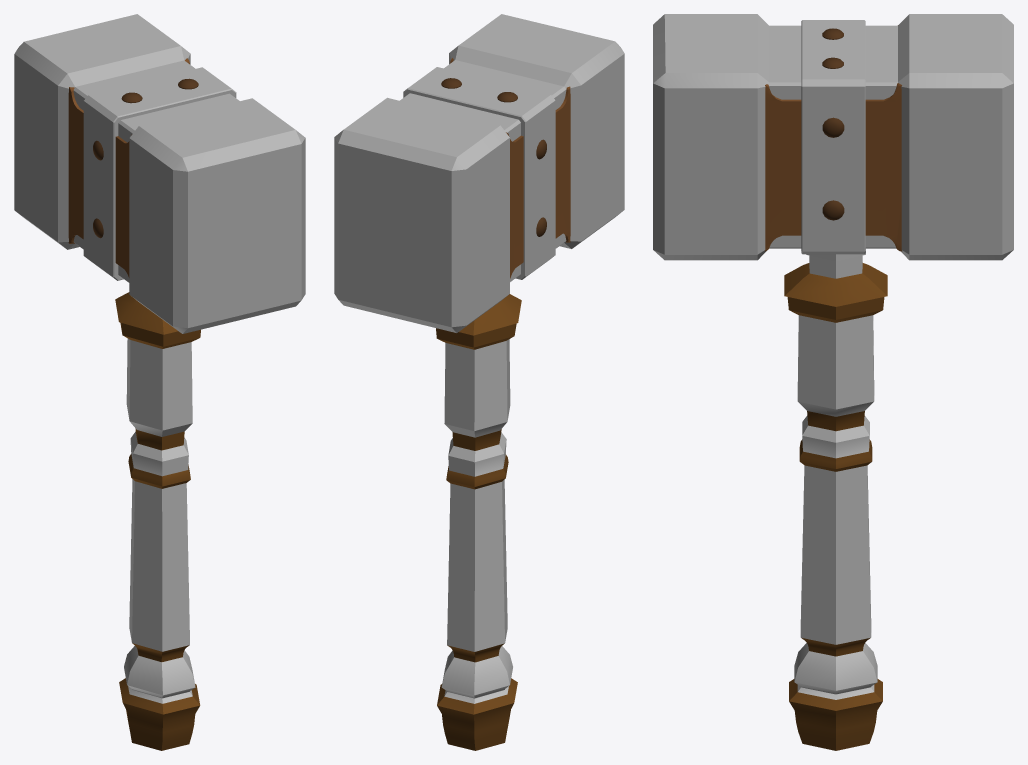
The picture shows the model from 3 angles, left to right: view 1: azimuth 30°, elevation 25°; view 2: azimuth 150°, elevation 25°; view 3: azimuth 270°, elevation 25°; orthographic projection. The views are drawn at different scales.
Parts seen in each view (by area): view 1: Cylinder.009; view 2: Cylinder.009; view 3: Cylinder.009.
Part boxes in pixels (x1,y1,x2,y2): Cylinder.009: (14, 14, 305, 750); Cylinder.009: (334, 14, 624, 750); Cylinder.009: (653, 14, 1013, 750).
Size of the model in its own units: 138 by 648 by 306.
